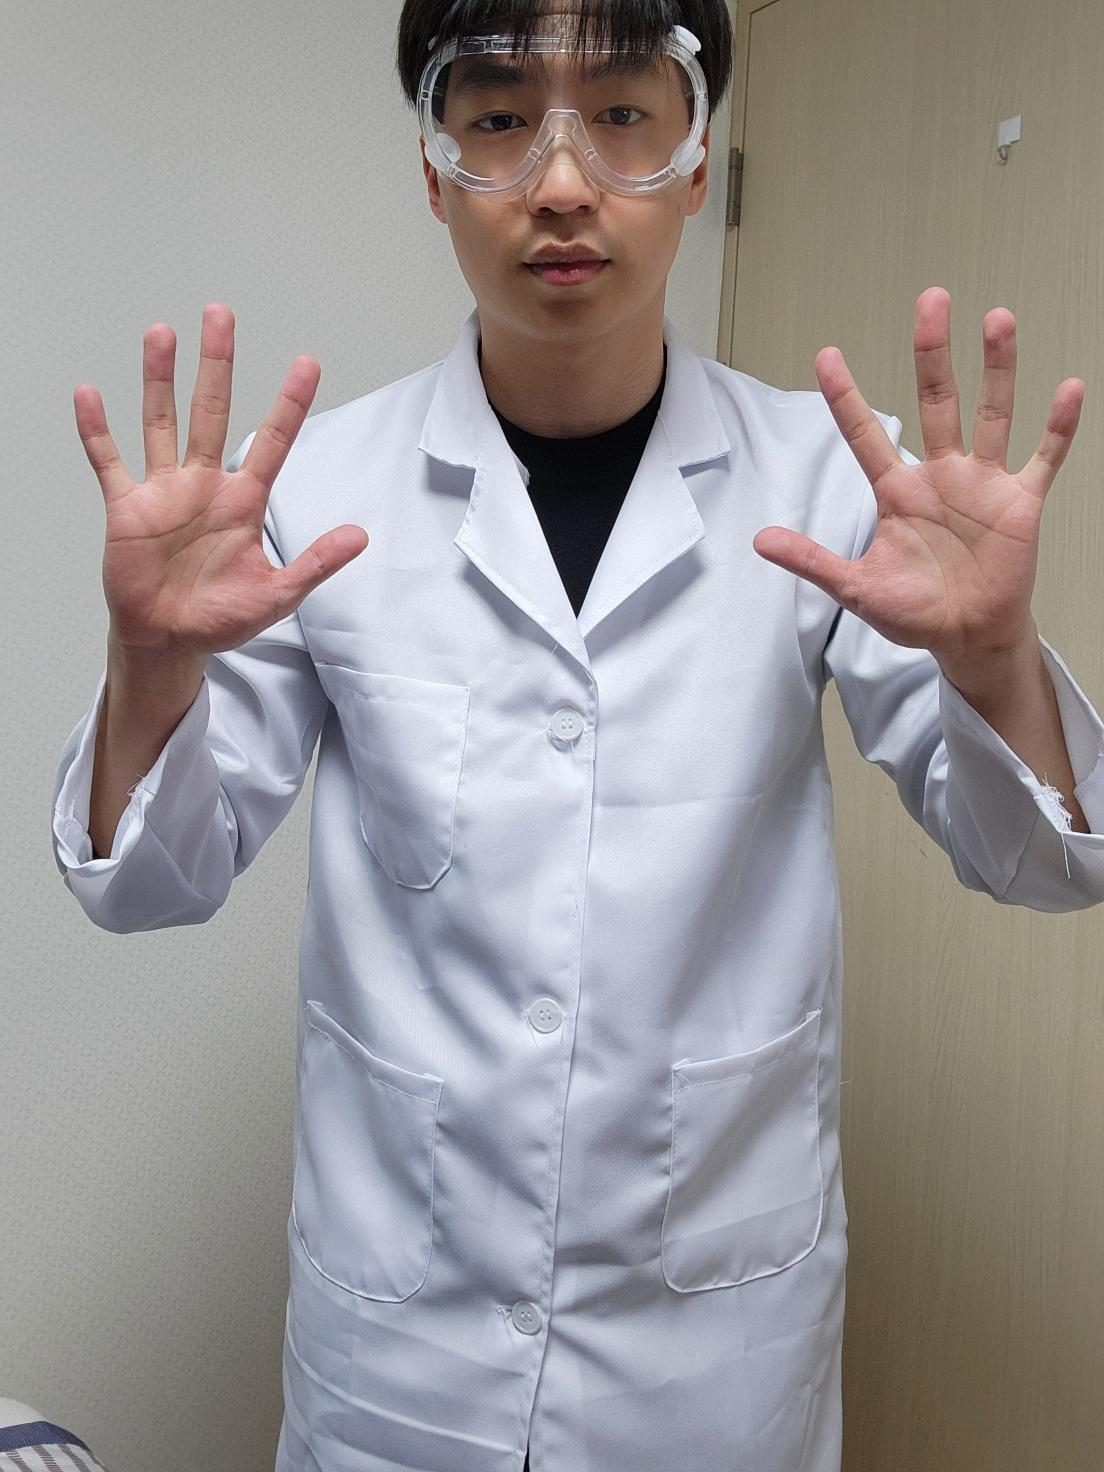lab_coat: (52, 322, 1102, 1471)
